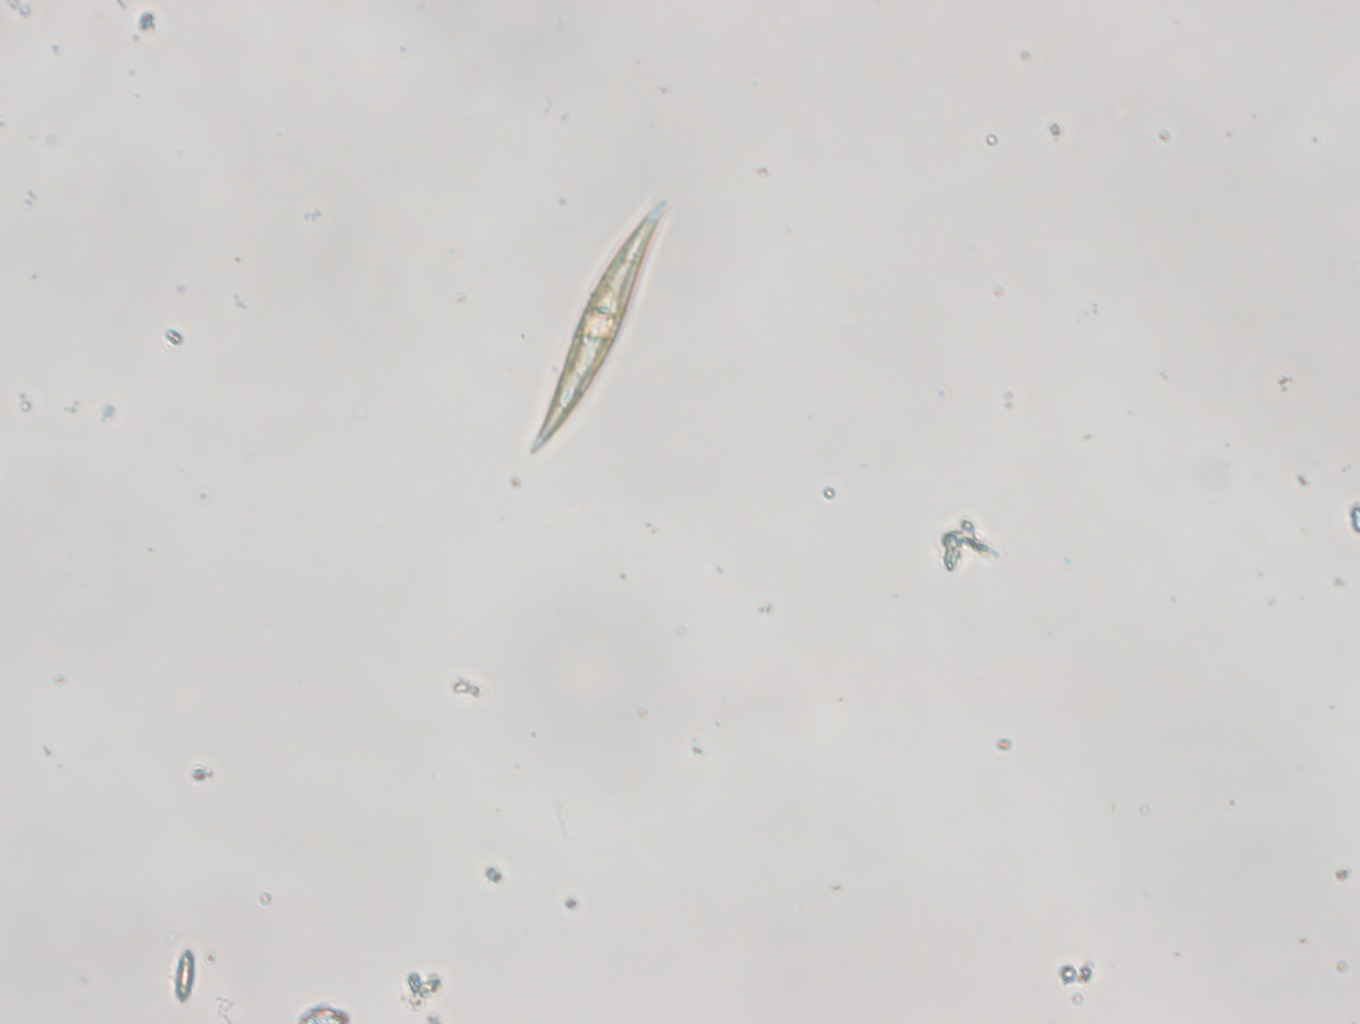pleurosigma pelagicum: (519, 190, 686, 463)
